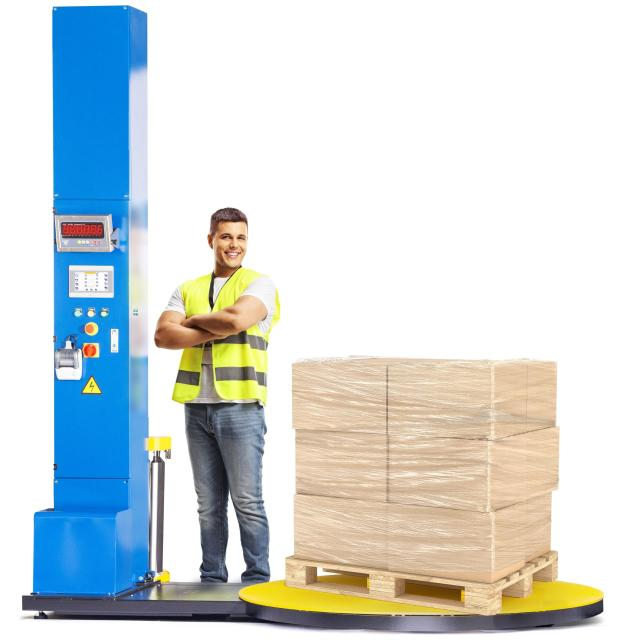cardboxes: (391, 501, 530, 582), (389, 437, 531, 512), (390, 364, 528, 438), (292, 496, 392, 569), (293, 363, 389, 432), (295, 433, 389, 501), (528, 427, 559, 498), (530, 362, 558, 432), (530, 492, 553, 562)
